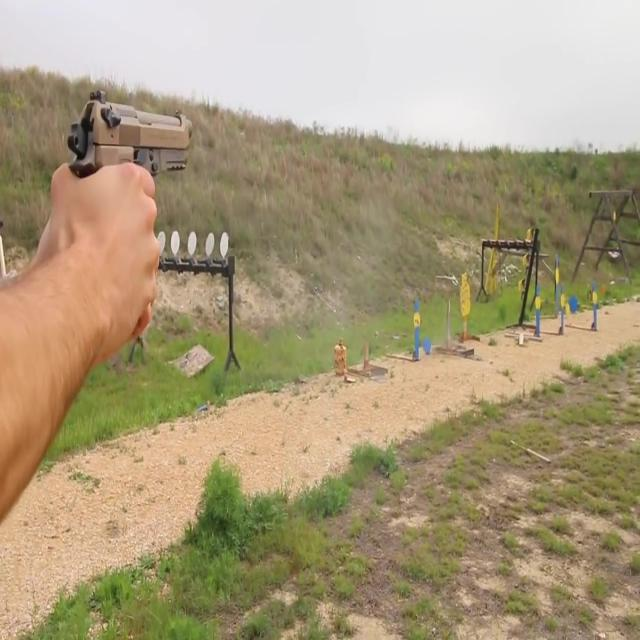Weapon: (46, 37, 228, 314)
